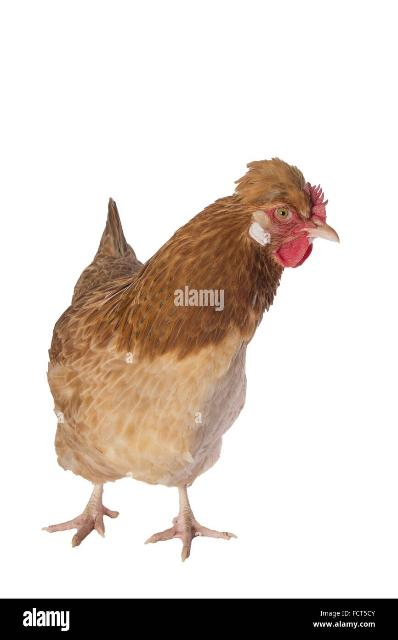Chicken: (42, 157, 341, 561)
